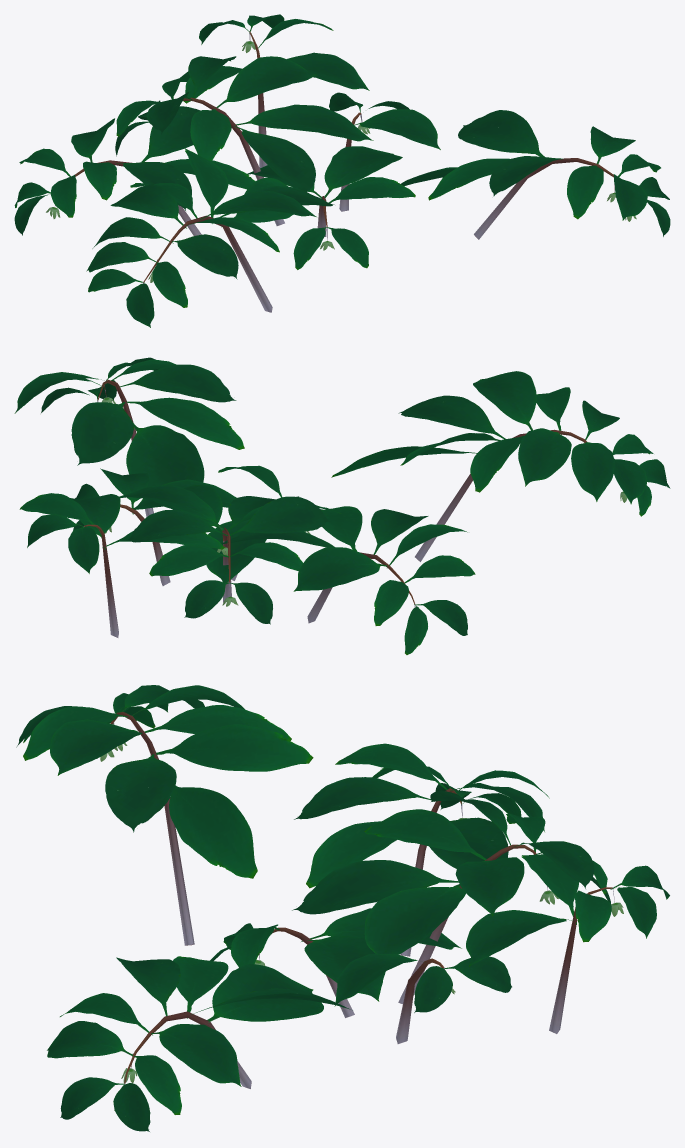
3 views of the same model, one above another, from view 1: azimuth 30°, elevation 25°; view 2: azimuth 150°, elevation 25°; view 3: azimuth 270°, elevation 25° (orthographic). The views are drawn at different scales.
Parts seen in each view (by area): view 1: SM_BM_Lily_03_LOD0; view 2: SM_BM_Lily_03_LOD0; view 3: SM_BM_Lily_03_LOD0.
Part boxes in pixels (bbox=[...]): SM_BM_Lily_03_LOD0: bbox=[14, 14, 670, 327]; SM_BM_Lily_03_LOD0: bbox=[14, 357, 670, 654]; SM_BM_Lily_03_LOD0: bbox=[16, 685, 669, 1131].
Size of the model in its own units: 1.25 by 0.3145 by 0.9837.
1 material, 1 textured.
